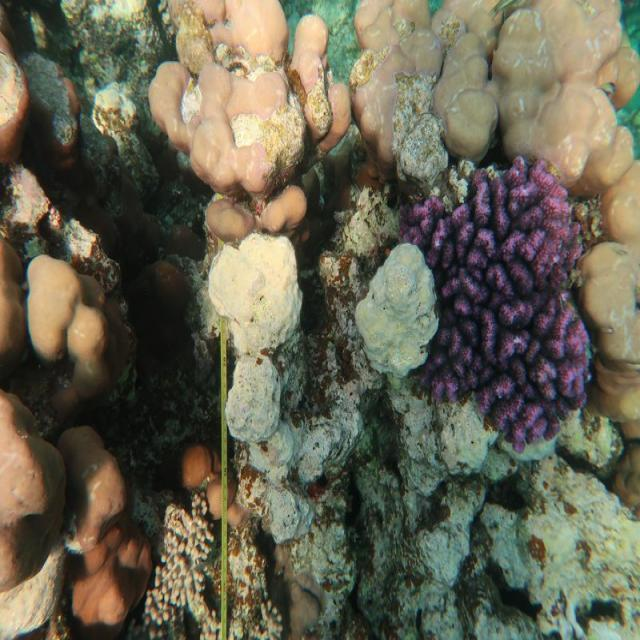Healthy Coral: (407, 159, 590, 444)
